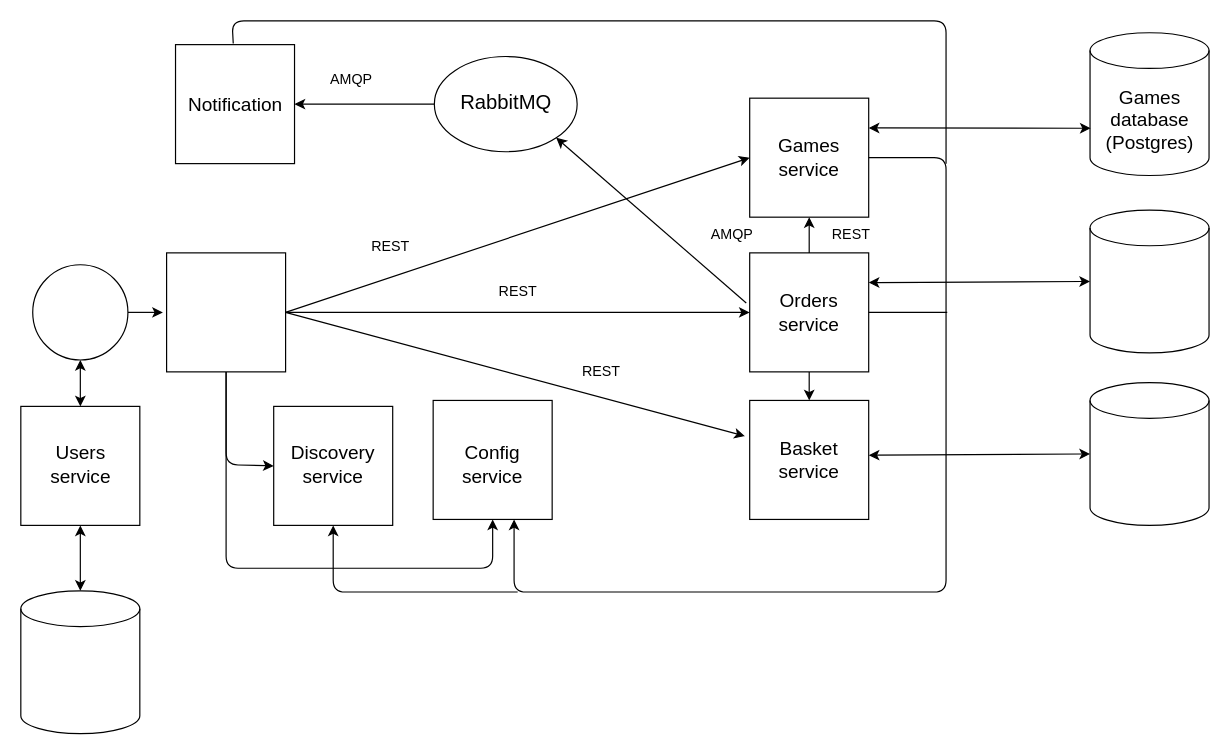
This 1230x754 diagram has some shape labels left out. Each missing label, with the box of its shape:
Basket database (Postgres): (1089, 381, 1209, 525)
Client: (32, 264, 128, 360)
Gateway service: (165, 252, 286, 372)
Orders database (Postgres): (1089, 209, 1209, 353)
Users database (Postgres): (20, 590, 140, 734)
